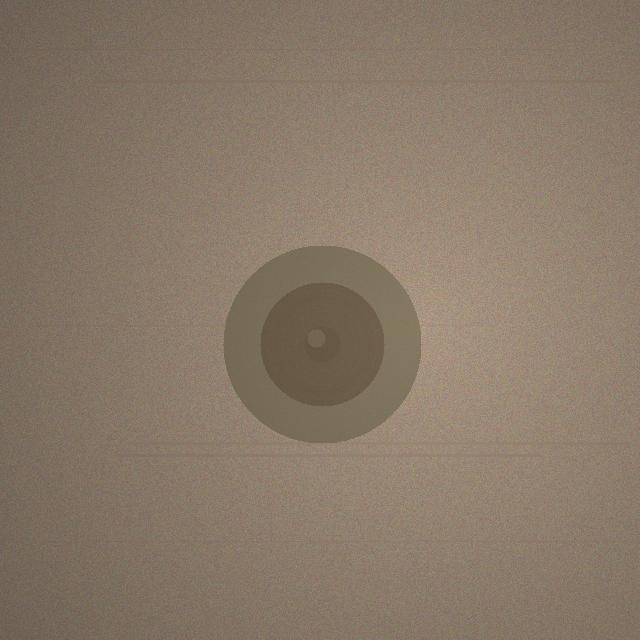good: (223, 245, 421, 443)
